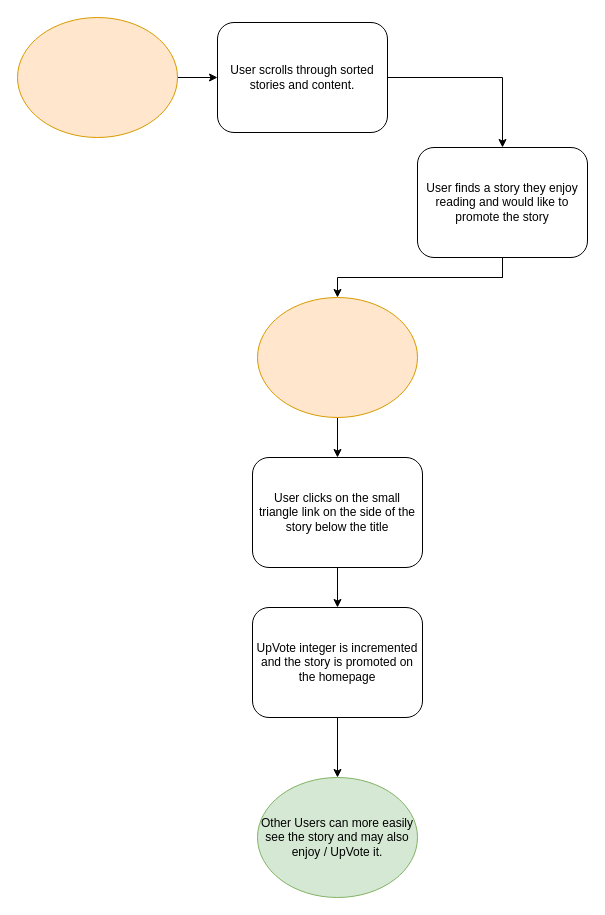
Image size: 605x915. Some labels were removed from this diagram. Each missing label, with the centre of its shape:
User makes a decision to UpVote the Thread: point 337,357
User reads content on the sorted Hackernews website: point 97,77
